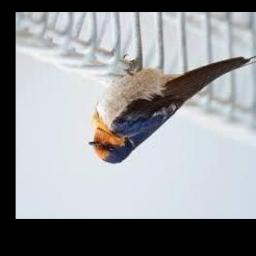Swallow: (88, 52, 256, 164)
